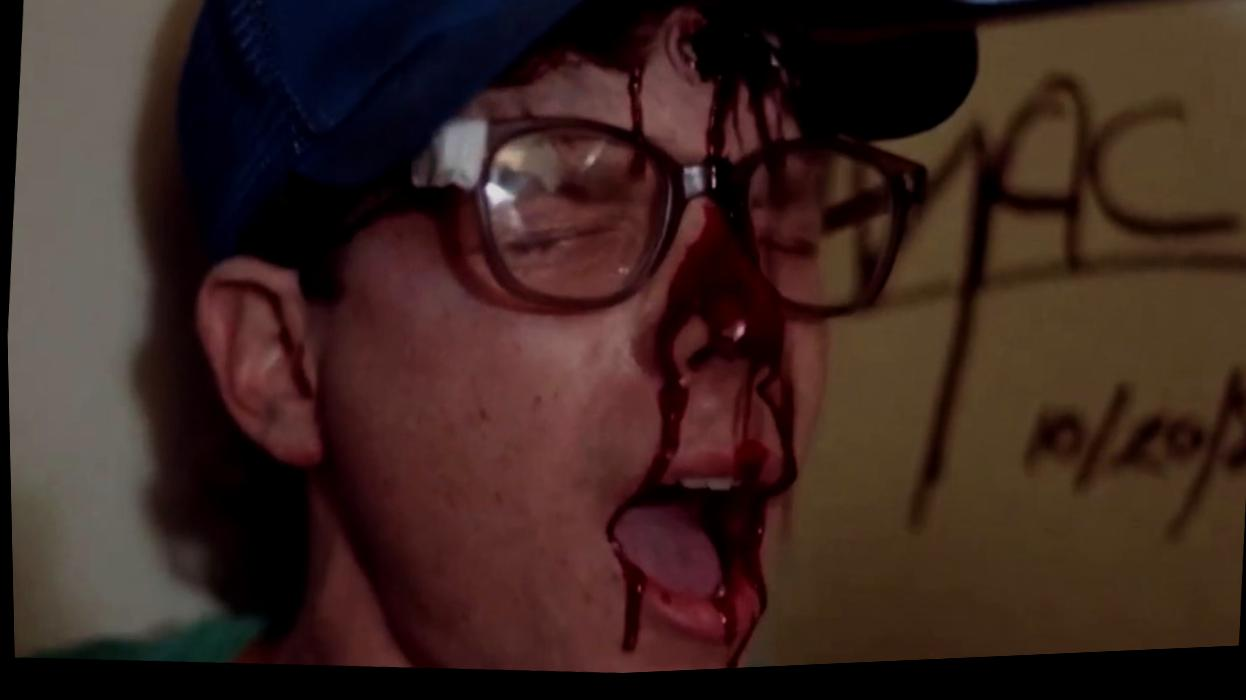Fire: (602, 198, 795, 675), (498, 0, 909, 183)
